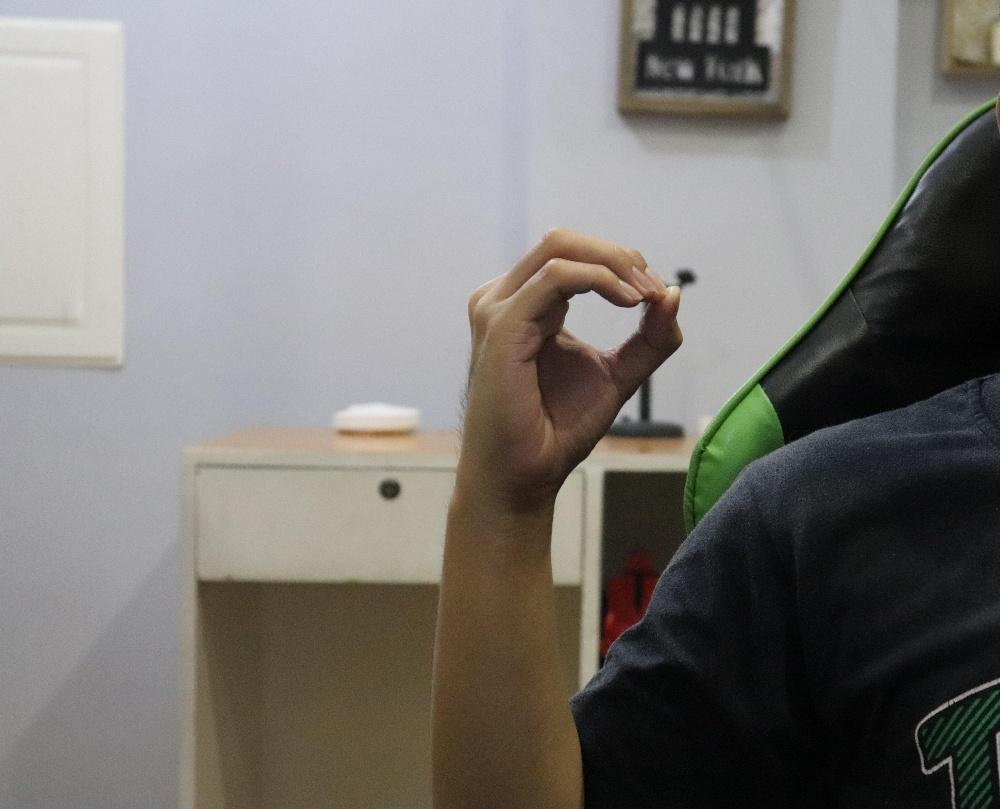o: (458, 227, 682, 498)
